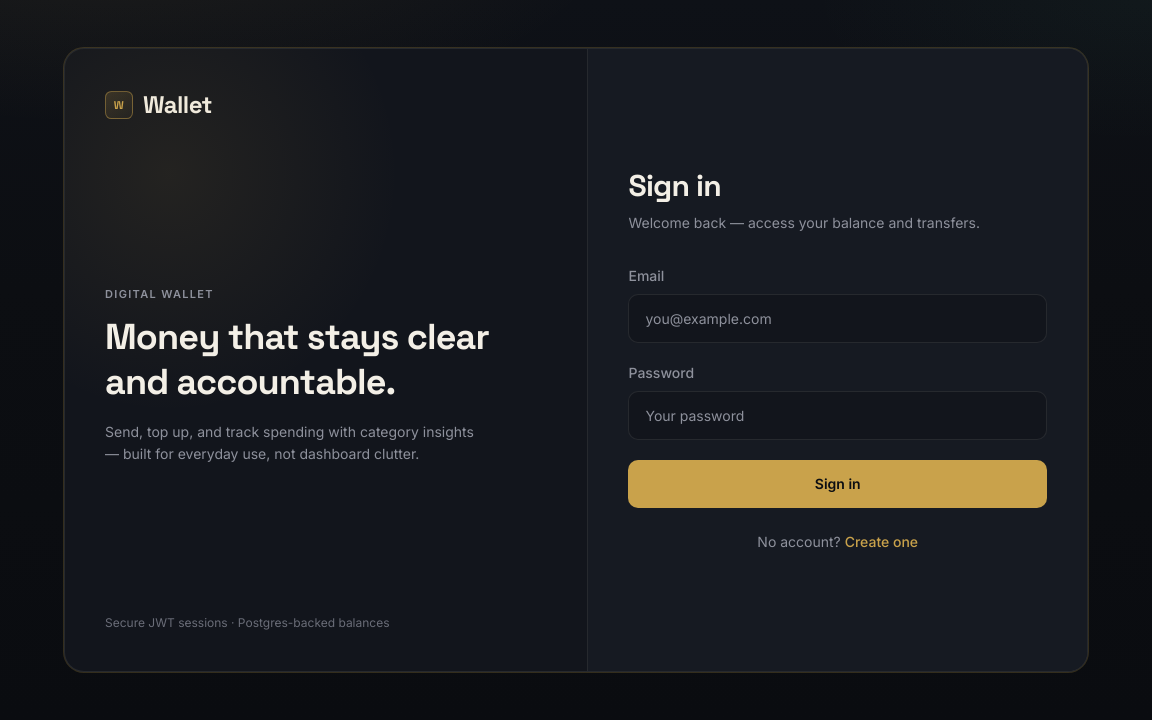
Login form validation › shows the server message when the credentials are rejected
Type "rahul@example.com" into the field labelled "Email" at (838, 319), box x1=628 y1=294 x2=1047 y2=343
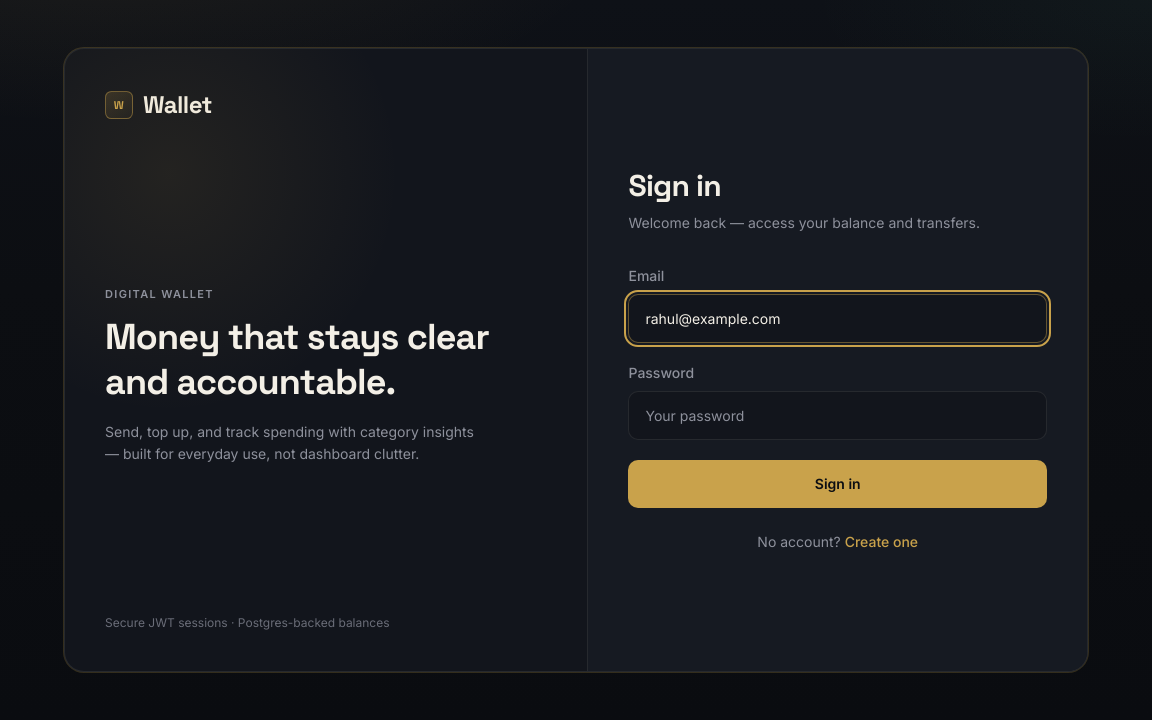
Type "wrong-password" into the password field labelled "Password" at (838, 416), box x1=628 y1=391 x2=1047 y2=440
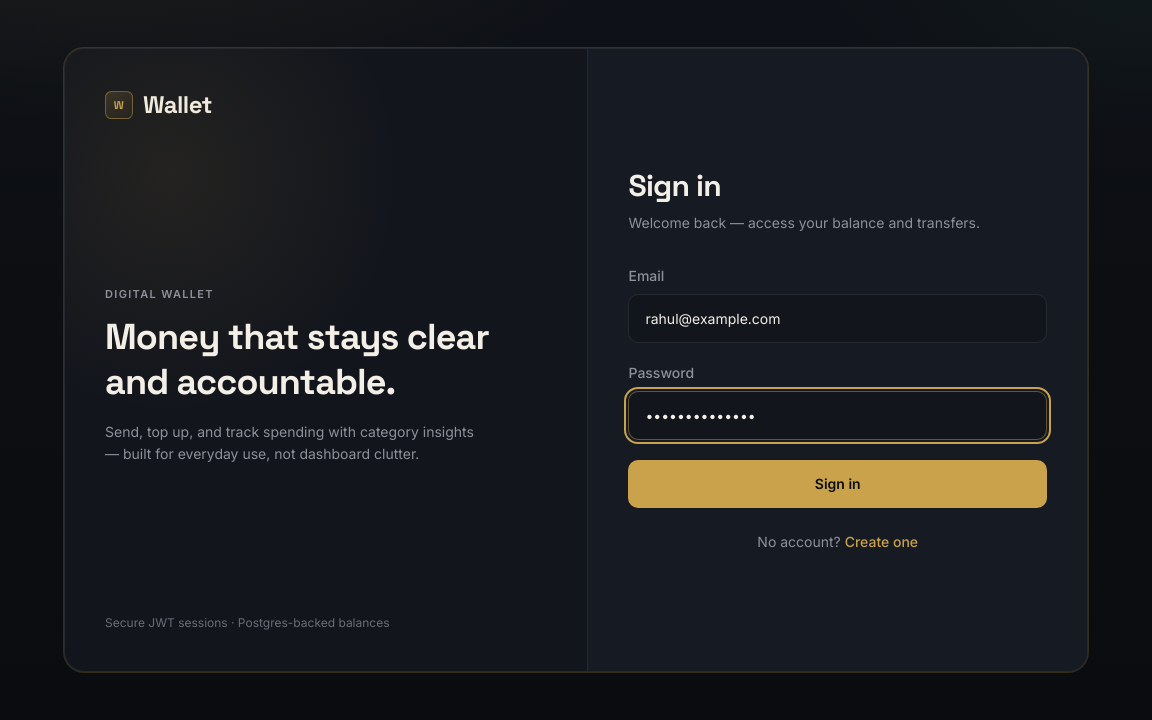
Click the button "Sign in" at (838, 484), box x1=628 y1=460 x2=1047 y2=508
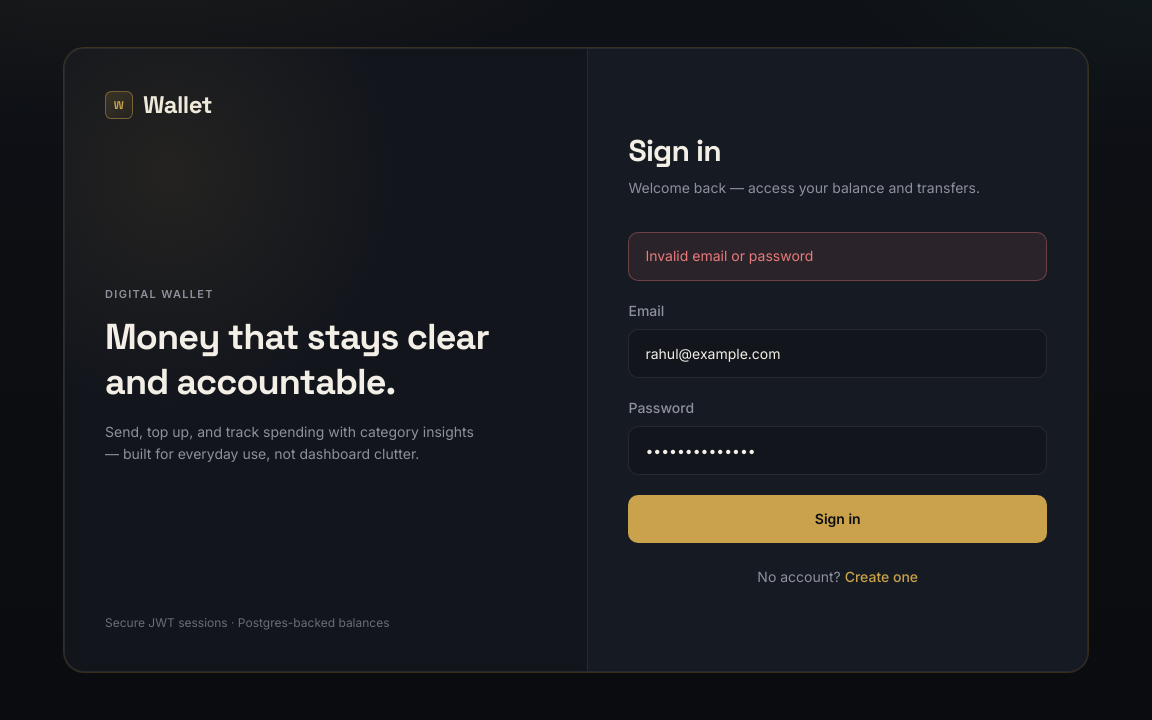
Now the message reads "Invalid email or password", box x1=646 y1=247 x2=814 y2=264
